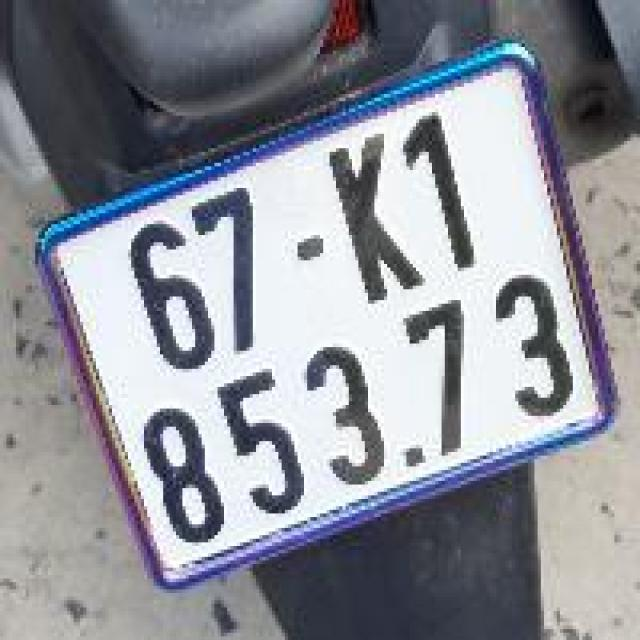1: (388, 96, 500, 285)
3: (290, 329, 403, 495), (480, 259, 584, 437)
5: (202, 357, 326, 526)
6: (111, 209, 232, 387)
7: (176, 172, 287, 369), (393, 284, 497, 468)
8: (132, 385, 245, 556)
K: (308, 117, 436, 325)
